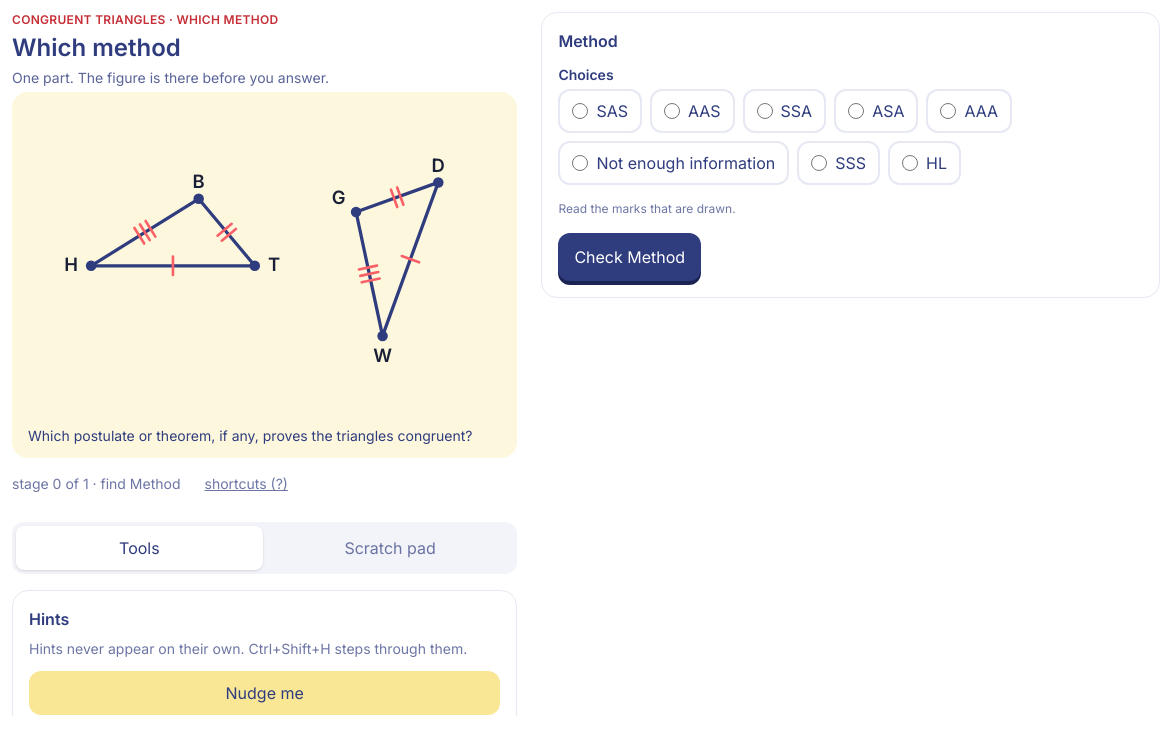
Test: GeometryFlow unit 4 geoCongruence/gc.which › an unreadable answer records nothing
Click the button "Check Method": [630, 257] box [558,233,701,281]
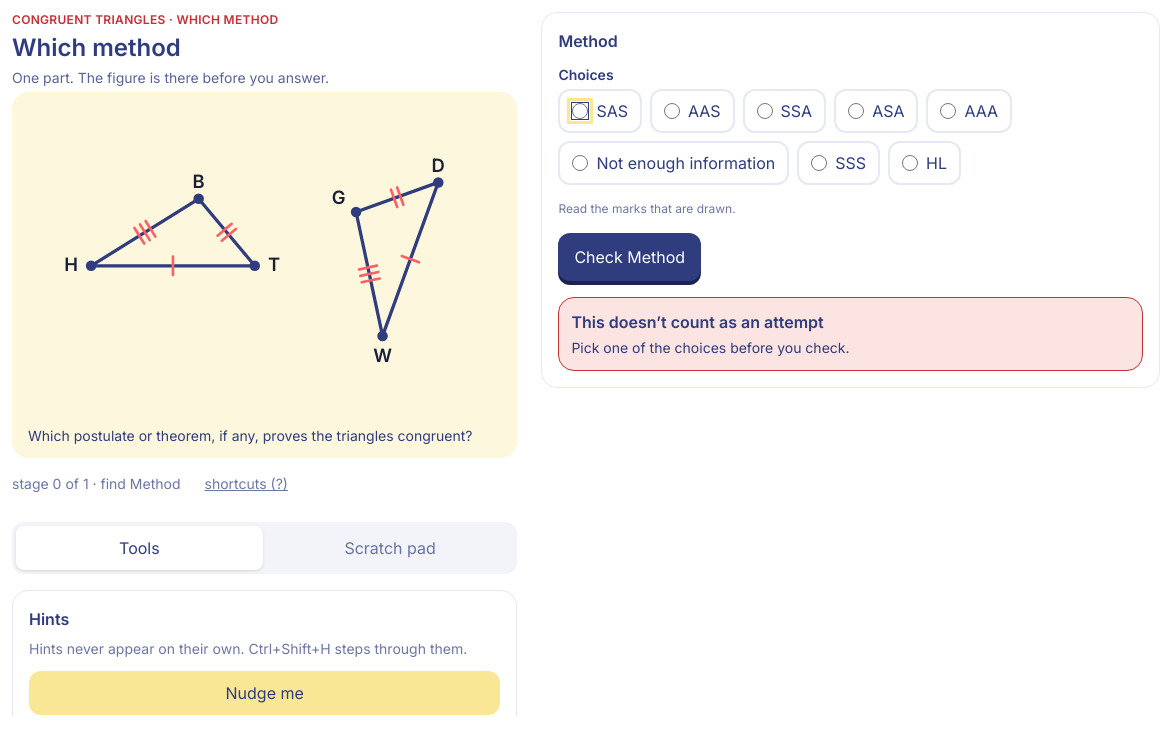
Expected: the message shows "This doesn’t count as an attempt", [571,312,824,332]
